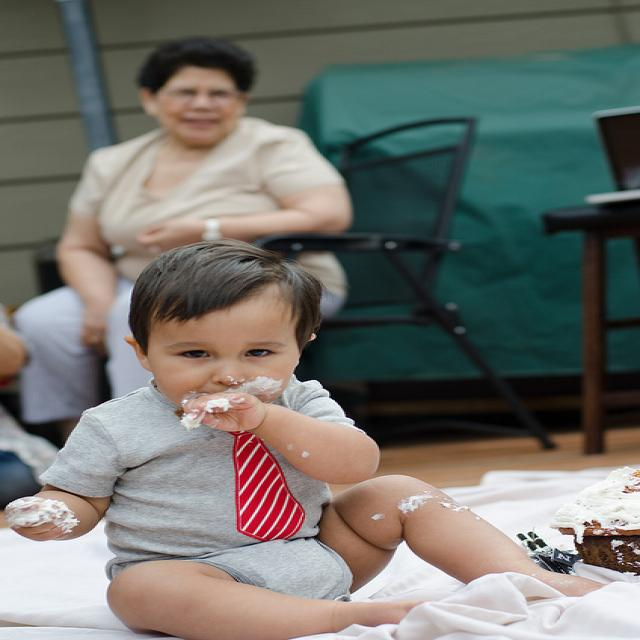chair: (249, 111, 565, 457)
dining table: (540, 201, 640, 456)
